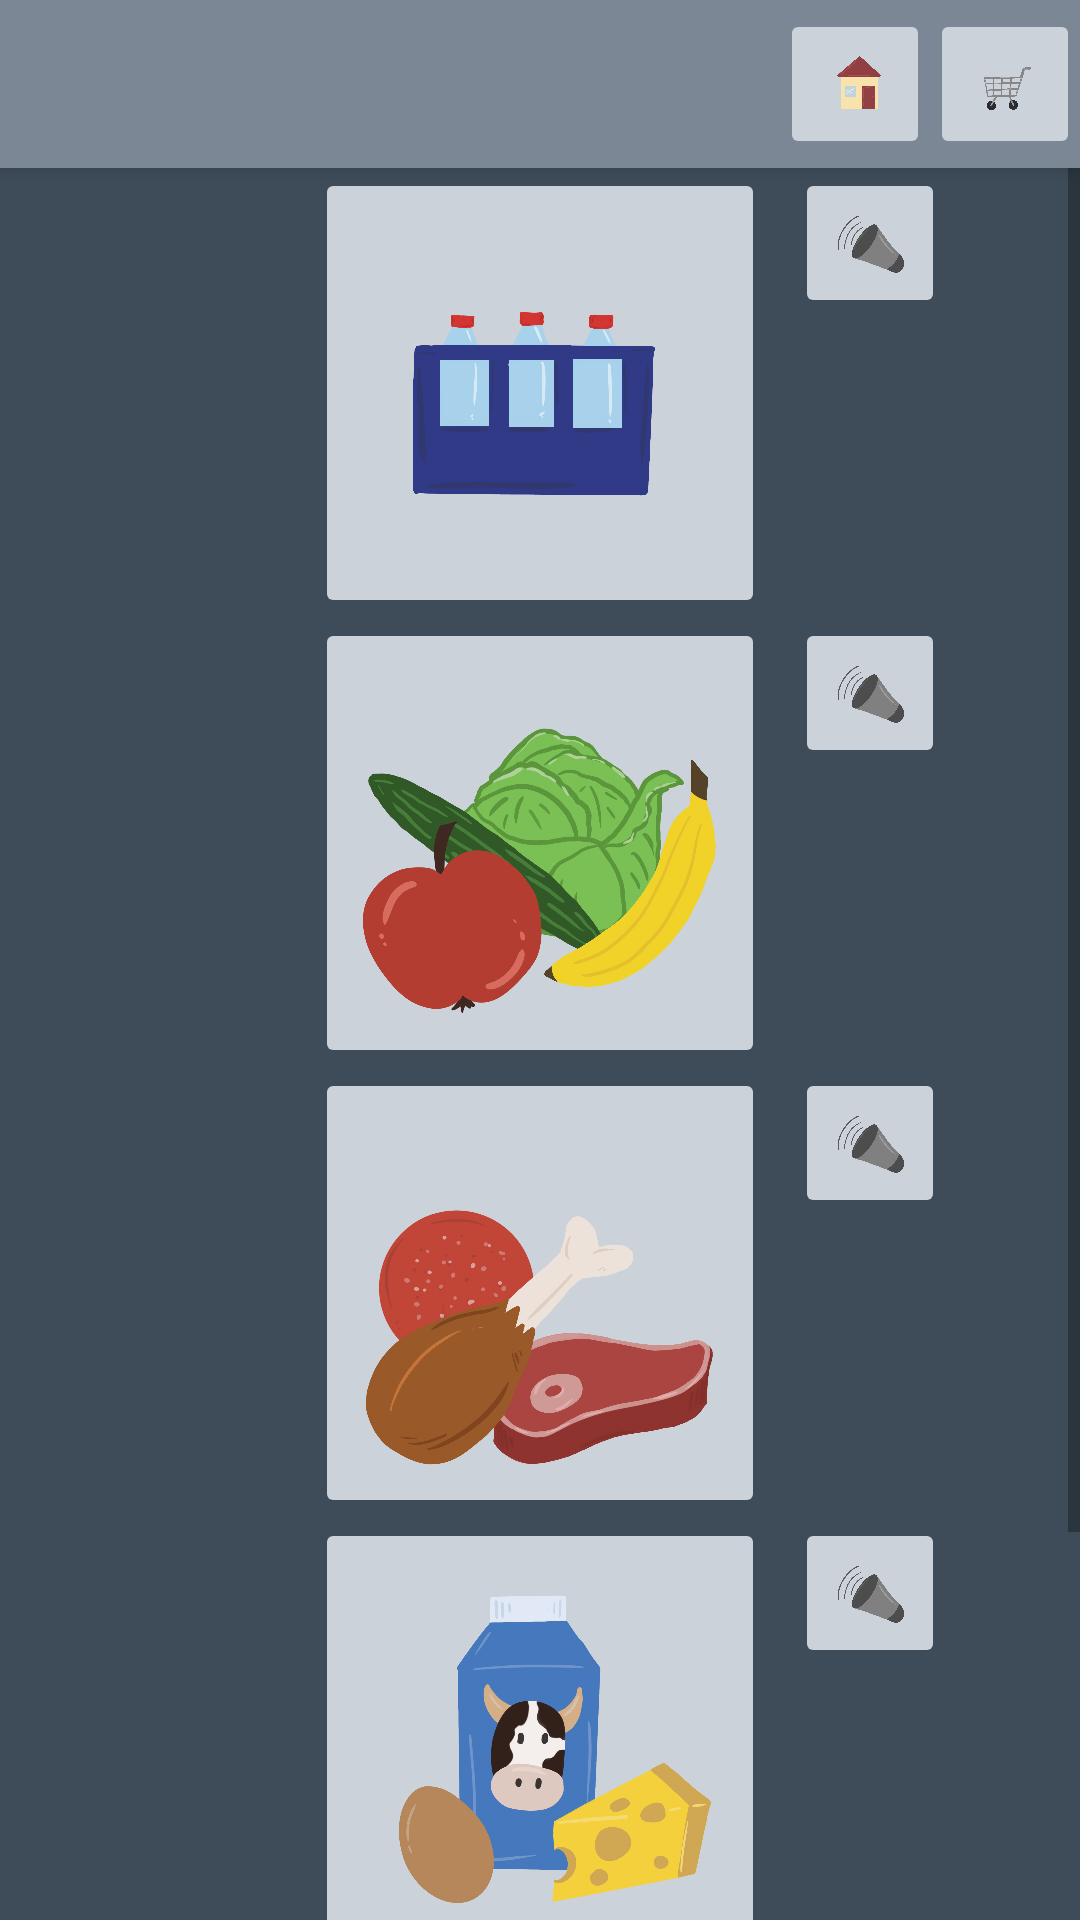

Icon bounding boxes for this 1080 × 1920 phone screenshot, format (x1, y1, x2, y2):
home: (792, 27, 918, 141)
sound: (807, 186, 933, 300), (807, 636, 933, 750), (807, 1086, 933, 1200), (807, 1536, 933, 1650)
warenkorb: (942, 27, 1068, 141)
